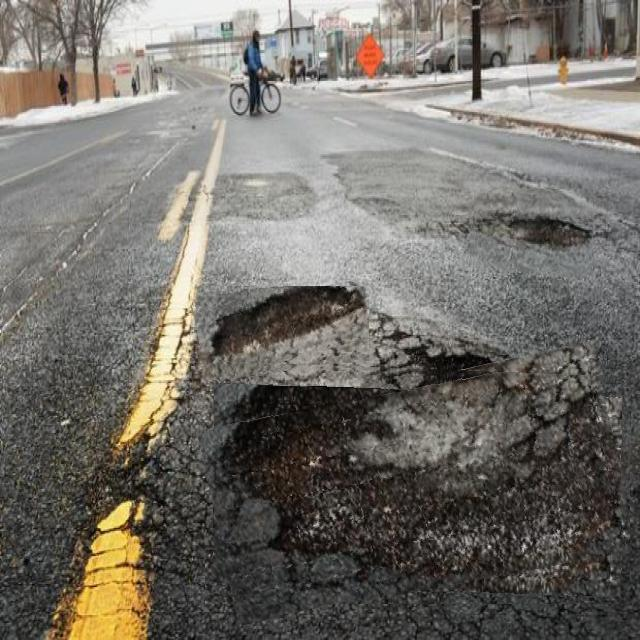Pothole: (205, 361, 631, 604), (196, 286, 370, 374), (470, 189, 593, 276)
